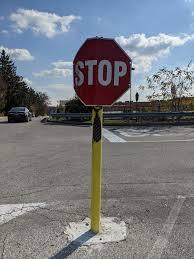Pole: (91, 111, 101, 232)
Sign: (70, 37, 134, 109)
